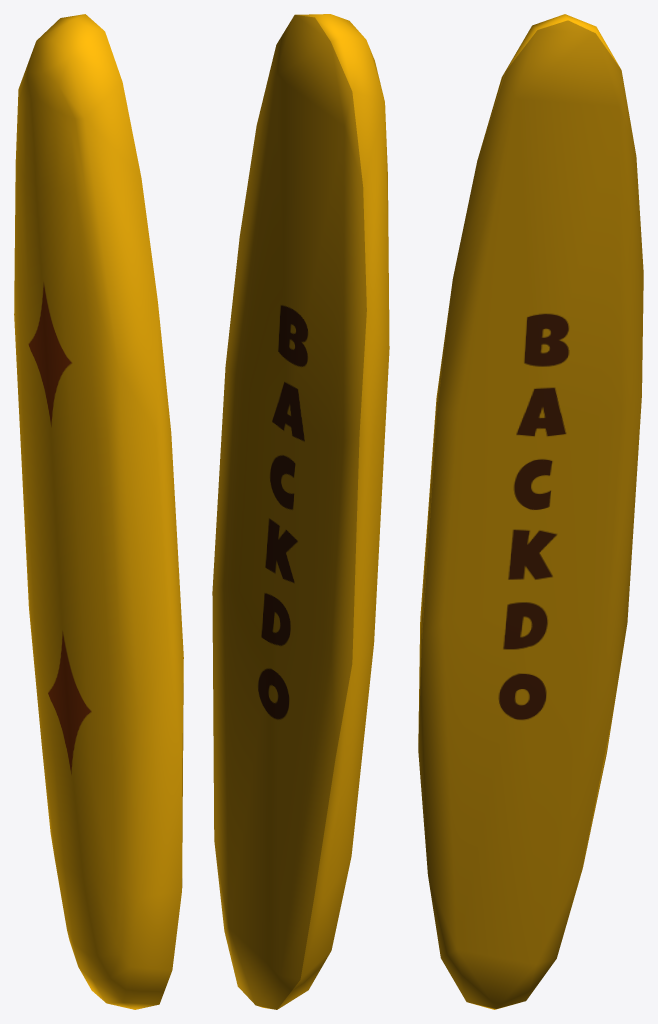
Rendered from yoot-backdo.glb.
3 views of the same model, side by side, from view 1: azimuth 30°, elevation 25°; view 2: azimuth 210°, elevation 25°; view 3: azimuth 270°, elevation 25° (orthographic). The views are drawn at different scales.
Parts seen in each view (by area): view 1: yoot0; view 2: yoot0; view 3: yoot0.
Part boxes in pixels (box(x1,y1,x2,y2)): yoot0: box(14, 14, 183, 1009); yoot0: box(212, 14, 389, 1009); yoot0: box(418, 14, 643, 1009).
Size of the model in its own units: 1.16 by 12.53 by 2.61.
1 material, 1 textured.
